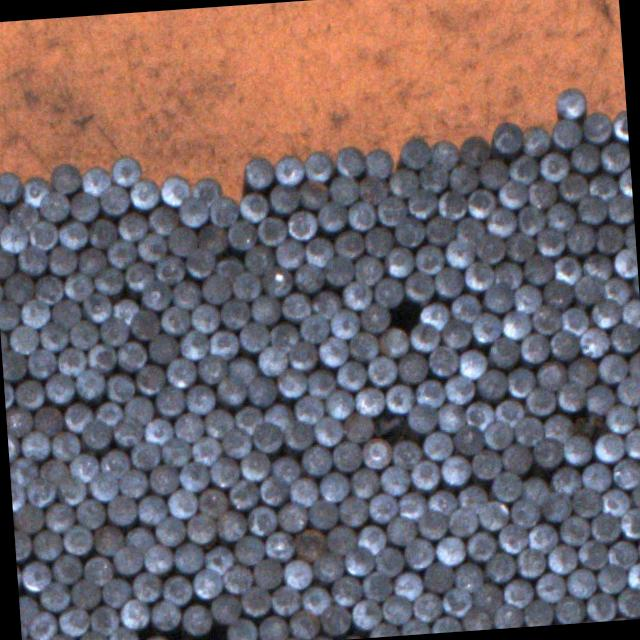tool: (49, 291, 85, 329), (306, 286, 344, 320), (91, 521, 126, 556), (292, 526, 328, 560), (96, 445, 132, 479), (143, 331, 180, 364), (111, 414, 145, 449), (67, 576, 102, 610), (42, 371, 77, 405), (195, 218, 228, 254), (486, 334, 520, 368), (456, 132, 490, 166), (452, 422, 486, 456), (351, 251, 385, 285), (362, 222, 396, 256), (74, 496, 108, 530), (61, 398, 95, 432), (317, 602, 352, 635), (12, 376, 45, 411), (569, 486, 602, 520), (578, 459, 612, 492), (595, 350, 628, 384), (576, 325, 610, 358), (499, 306, 532, 340), (588, 297, 622, 330), (453, 558, 486, 592), (160, 572, 193, 606), (416, 506, 449, 540), (438, 452, 472, 485), (251, 419, 284, 453), (80, 417, 114, 450), (215, 373, 248, 407), (456, 346, 490, 379), (315, 334, 349, 367), (92, 262, 125, 296), (424, 212, 458, 245), (67, 188, 101, 221), (397, 134, 430, 168), (340, 410, 375, 442), (524, 384, 557, 417), (530, 302, 563, 335), (575, 193, 608, 226), (506, 151, 539, 184), (554, 85, 587, 118), (471, 446, 504, 479), (177, 459, 210, 492), (323, 386, 356, 419), (165, 356, 198, 389), (165, 225, 198, 258), (85, 216, 118, 249), (78, 163, 111, 196), (108, 154, 141, 187), (31, 403, 64, 436), (1, 271, 34, 304), (583, 590, 617, 622), (502, 576, 536, 608), (532, 570, 566, 602), (574, 538, 608, 570), (499, 442, 533, 474), (482, 418, 514, 452), (554, 378, 586, 412), (474, 367, 506, 401), (540, 278, 574, 310), (573, 272, 605, 306), (490, 258, 524, 290), (447, 160, 479, 194), (598, 138, 630, 172), (490, 120, 522, 154), (208, 590, 242, 622), (208, 454, 240, 488), (464, 396, 496, 430), (353, 384, 385, 418), (132, 362, 166, 394), (450, 291, 484, 323), (98, 315, 132, 347), (322, 254, 356, 286), (206, 193, 238, 227), (158, 173, 190, 207), (188, 175, 222, 207), (242, 154, 274, 188), (58, 604, 90, 638), (37, 318, 69, 352), (14, 244, 48, 276), (310, 550, 345, 581), (432, 535, 467, 566), (22, 172, 52, 208), (594, 563, 627, 595), (606, 538, 639, 570), (598, 486, 631, 518), (549, 463, 581, 496), (522, 252, 555, 284), (582, 249, 614, 282), (453, 213, 485, 246), (537, 150, 570, 182), (567, 140, 600, 172), (471, 581, 504, 613), (329, 574, 362, 606), (391, 568, 424, 600), (221, 562, 254, 594), (251, 557, 283, 590), (344, 543, 376, 576), (142, 541, 174, 574), (477, 498, 510, 530), (154, 514, 187, 546), (274, 500, 306, 533), (306, 498, 338, 531), (456, 482, 489, 514), (228, 476, 260, 509), (318, 469, 350, 502), (349, 466, 382, 498), (330, 438, 362, 471), (129, 439, 161, 472), (220, 426, 253, 458), (444, 372, 477, 404), (169, 276, 202, 308), (152, 252, 185, 284), (213, 252, 246, 284), (302, 235, 334, 268), (332, 228, 365, 260), (394, 213, 426, 246), (436, 187, 468, 220), (56, 217, 88, 250), (176, 195, 208, 228), (333, 144, 365, 177), (20, 558, 52, 591), (31, 526, 64, 558), (61, 523, 94, 555), (24, 476, 57, 508), (68, 451, 100, 484), (49, 429, 82, 461), (604, 402, 638, 433), (403, 536, 434, 570), (146, 462, 180, 493), (159, 434, 190, 468), (202, 406, 236, 437), (274, 366, 308, 397), (39, 188, 70, 222), (81, 553, 115, 584), (42, 501, 76, 532), (581, 108, 611, 143), (564, 566, 596, 598), (544, 542, 576, 574), (558, 514, 590, 546), (532, 436, 564, 468), (512, 416, 544, 448), (504, 365, 536, 397), (566, 354, 598, 386), (608, 321, 640, 353), (592, 221, 624, 253), (496, 178, 528, 210), (586, 170, 618, 202), (350, 598, 382, 630), (180, 602, 212, 634), (300, 582, 332, 614), (484, 550, 516, 582), (130, 570, 162, 602), (190, 566, 222, 598), (263, 529, 295, 561), (386, 514, 418, 546), (166, 487, 198, 519), (258, 474, 290, 506), (379, 463, 411, 495), (238, 449, 270, 481), (300, 443, 332, 475), (262, 399, 294, 431), (365, 354, 397, 386), (396, 350, 428, 382), (426, 344, 458, 376), (378, 326, 410, 358), (440, 316, 472, 348), (206, 328, 238, 360), (328, 307, 360, 339), (188, 301, 220, 333), (372, 274, 404, 306), (402, 269, 434, 301), (140, 278, 172, 310), (200, 272, 232, 304), (260, 264, 292, 296), (412, 242, 444, 274), (444, 235, 476, 267), (62, 270, 94, 302), (272, 236, 304, 268), (104, 236, 136, 268), (225, 217, 257, 249), (316, 200, 348, 232), (116, 210, 148, 242), (126, 178, 158, 210), (428, 137, 460, 169), (118, 596, 150, 628), (52, 550, 84, 582), (55, 473, 87, 505), (88, 469, 120, 501), (18, 428, 50, 460), (56, 345, 88, 377), (19, 295, 51, 327), (8, 198, 40, 230), (540, 412, 573, 443), (465, 187, 498, 218), (391, 437, 424, 468), (246, 372, 277, 405), (75, 366, 106, 399), (358, 301, 391, 332), (129, 308, 160, 341), (247, 293, 280, 324), (242, 242, 275, 273), (285, 209, 318, 240), (146, 204, 179, 235), (296, 177, 329, 208), (49, 160, 80, 193), (26, 609, 59, 640), (544, 200, 578, 230), (360, 570, 394, 600), (464, 530, 498, 560), (122, 524, 156, 554), (382, 382, 416, 412), (122, 394, 156, 424), (418, 300, 452, 330), (496, 522, 528, 553), (538, 491, 570, 522), (609, 457, 640, 489), (462, 258, 494, 289), (502, 230, 534, 261), (550, 117, 582, 148), (287, 608, 318, 640), (381, 592, 412, 624), (149, 598, 180, 630), (423, 560, 454, 592), (373, 544, 404, 576), (356, 522, 388, 553), (185, 512, 216, 544), (397, 488, 428, 520), (288, 474, 319, 506), (172, 411, 204, 442), (305, 367, 337, 398), (335, 359, 367, 390), (226, 352, 258, 383), (178, 328, 209, 360), (67, 319, 99, 350), (383, 245, 414, 277), (74, 244, 106, 275), (406, 185, 437, 217), (358, 172, 389, 204), (417, 160, 448, 192), (88, 604, 119, 636), (9, 456, 40, 488), (182, 382, 215, 412), (408, 322, 441, 352), (292, 262, 325, 292), (134, 232, 167, 262), (302, 149, 332, 182), (364, 146, 394, 179), (559, 304, 590, 335), (484, 206, 515, 237), (514, 203, 545, 234), (240, 584, 271, 615), (216, 509, 247, 540), (338, 494, 369, 525), (408, 458, 439, 489), (283, 418, 314, 449), (348, 330, 379, 361), (299, 312, 330, 343), (183, 246, 214, 277), (46, 243, 77, 274), (39, 580, 70, 611), (522, 596, 554, 626), (516, 546, 546, 578), (587, 512, 619, 542), (508, 497, 540, 527), (490, 470, 520, 502), (518, 472, 550, 502), (593, 431, 625, 461), (494, 396, 524, 428), (584, 382, 614, 414), (518, 332, 550, 362), (472, 310, 502, 342), (552, 252, 582, 284), (527, 176, 557, 208), (520, 124, 550, 156), (172, 540, 202, 572), (232, 534, 264, 564), (326, 521, 356, 553), (246, 504, 276, 536), (116, 468, 148, 498), (422, 428, 454, 458), (312, 414, 342, 446), (407, 401, 437, 433), (142, 414, 174, 444), (292, 394, 324, 424), (414, 378, 446, 408), (104, 370, 136, 400), (256, 344, 288, 374), (286, 340, 318, 370), (114, 340, 146, 370), (268, 320, 300, 350), (218, 298, 250, 328), (342, 279, 374, 309), (432, 266, 464, 296), (80, 292, 112, 322), (109, 294, 141, 324), (122, 260, 154, 290), (256, 214, 286, 246), (346, 198, 376, 230), (376, 194, 408, 224), (12, 503, 44, 533), (8, 324, 40, 354), (554, 594, 585, 624), (562, 432, 592, 463), (548, 328, 578, 359), (483, 282, 514, 312), (602, 274, 633, 304), (534, 226, 565, 256), (557, 171, 588, 201), (477, 158, 508, 188), (411, 592, 442, 622), (282, 558, 313, 588), (203, 544, 234, 574), (448, 505, 478, 536), (106, 493, 136, 524), (136, 494, 167, 524), (197, 486, 228, 516), (361, 437, 391, 468), (233, 404, 264, 434), (92, 398, 123, 428), (196, 352, 227, 382), (85, 342, 116, 372), (238, 321, 268, 352), (279, 290, 310, 320), (232, 270, 263, 300), (238, 190, 268, 221), (267, 183, 298, 213), (328, 174, 359, 204), (274, 153, 304, 184), (101, 576, 131, 607), (113, 544, 144, 574), (40, 456, 70, 487), (614, 584, 640, 619), (526, 522, 556, 552), (474, 232, 504, 262), (442, 586, 472, 616), (270, 584, 300, 614), (190, 434, 220, 464), (436, 401, 466, 431), (160, 304, 190, 334), (26, 347, 56, 377), (28, 220, 58, 250), (513, 282, 542, 313), (154, 384, 183, 415), (99, 183, 128, 214), (606, 191, 634, 223), (6, 404, 34, 436), (34, 272, 62, 304), (536, 360, 566, 389), (565, 222, 594, 252), (368, 492, 398, 521), (270, 453, 300, 482), (427, 488, 458, 516), (0, 221, 28, 252), (222, 616, 258, 640), (256, 613, 288, 640), (614, 374, 640, 407), (388, 168, 418, 196), (491, 602, 523, 628), (459, 606, 492, 631), (0, 168, 24, 202), (612, 246, 638, 277), (617, 505, 640, 539), (1, 350, 26, 380), (18, 591, 40, 622), (0, 298, 21, 328), (429, 614, 462, 633), (619, 296, 640, 325), (398, 617, 431, 635), (610, 108, 628, 140), (368, 620, 400, 638), (14, 530, 32, 560), (624, 426, 640, 458), (106, 624, 138, 640), (0, 248, 17, 278), (616, 167, 632, 197), (626, 560, 640, 592), (10, 480, 24, 510), (627, 348, 640, 379), (77, 627, 108, 640), (629, 478, 640, 511), (0, 200, 11, 231), (45, 631, 78, 640), (139, 633, 170, 640)
tool_b: (361, 400, 419, 450), (564, 399, 616, 446)
void: (385, 297, 424, 332), (198, 622, 225, 640)
